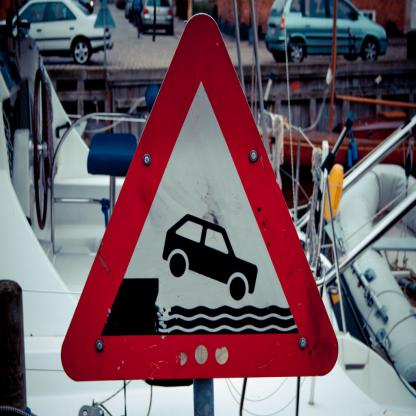Car: (251, 10, 395, 67), (1, 1, 116, 70), (139, 1, 176, 36)
